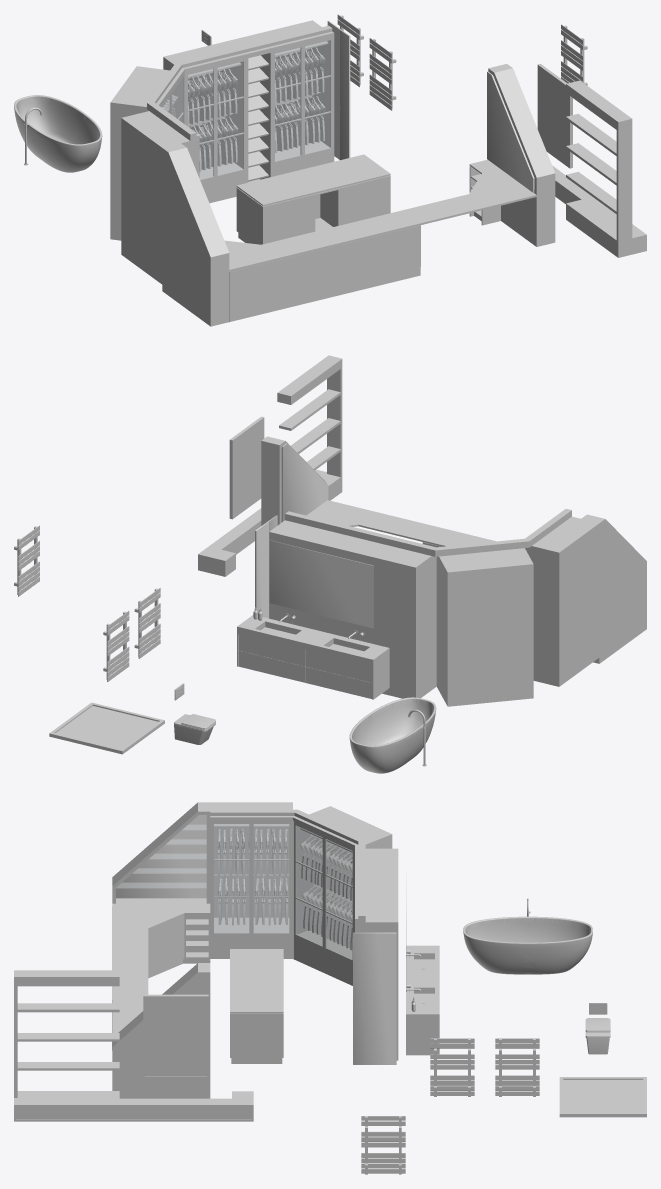
File: Storey__FirstFloor__ProposedFixtures__MeshModel__.glb
The picture shows the model from 3 angles, top to bottom: view 1: azimuth 30°, elevation 25°; view 2: azimuth 150°, elevation 25°; view 3: azimuth 270°, elevation 25°; orthographic projection. The views are drawn at different scales.
Visible parts, largest first — view 1: 27__ProposedBuilding__Fixtures::Default, 85_0001__Wardrobe-01_1_ID730522, 85_0001__Wardrobe-01_1_ID730524, 27__ProposedBuilding__Fixtures::Color_000, 27__ProposedBuilding__Fixtures::MAT140__Mirror__ClearDefault, 27_50__TowelRadiator__WallHuing__Type-01___ID730512, 27_50__TowelRadiator__WallHuing__Type-01___ID730555, 27_50__TowelRadiator__WallHuing__Type-01___ID730511, 27__ProposedBuilding__Fixtures::MAT101__Glass__ClearDefault; view 2: 27__ProposedBuilding__Fixtures::Default, 27__ProposedBuilding__Fixtures::MAT140__Mirror__ClearDefault, 85_0001__Wardrobe-01_1_ID730524, 27__ProposedBuilding__Fixtures::Color_000, 85_0001__Wardrobe-01_1_ID730522, 27_50__TowelRadiator__WallHuing__Type-01___ID730511, 27_50__TowelRadiator__WallHuing__Type-01___ID730555, 27_50__TowelRadiator__WallHuing__Type-01___ID730512; view 3: 27__ProposedBuilding__Fixtures::Default, 27__ProposedBuilding__Fixtures::MAT101__Glass__ClearDefault, 27__ProposedBuilding__Fixtures::MAT140__Mirror__ClearDefault, 27__ProposedBuilding__Fixtures::Color_000, 27_50__TowelRadiator__WallHuing__Type-01___ID730555, 27_50__TowelRadiator__WallHuing__Type-01___ID730512, 27_50__TowelRadiator__WallHuing__Type-01___ID730511, 85_0001__Wardrobe-01_1_ID730522, 85_0001__Wardrobe-01_1_ID730524.
Boxes of the visible parts, bbox=[...] form: 27__ProposedBuilding__Fixtures::Default: bbox=[110, 25, 646, 326]; 85_0001__Wardrobe-01_1_ID730522: bbox=[250, 20, 334, 176]; 85_0001__Wardrobe-01_1_ID730524: bbox=[163, 41, 246, 203]; 27__ProposedBuilding__Fixtures::Color_000: bbox=[14, 95, 102, 172]; 27__ProposedBuilding__Fixtures::MAT140__Mirror__ClearDefault: bbox=[327, 20, 532, 192]; 27_50__TowelRadiator__WallHuing__Type-01___ID730512: bbox=[369, 38, 396, 110]; 27_50__TowelRadiator__WallHuing__Type-01___ID730555: bbox=[561, 25, 587, 85]; 27_50__TowelRadiator__WallHuing__Type-01___ID730511: bbox=[337, 14, 363, 87]; 27__ProposedBuilding__Fixtures::MAT101__Glass__ClearDefault: bbox=[162, 78, 183, 122]; 27__ProposedBuilding__Fixtures::Default: bbox=[49, 355, 646, 754]; 27__ProposedBuilding__Fixtures::MAT140__Mirror__ClearDefault: bbox=[255, 444, 373, 628]; 85_0001__Wardrobe-01_1_ID730524: bbox=[354, 541, 436, 698]; 27__ProposedBuilding__Fixtures::Color_000: bbox=[349, 697, 436, 773]; 85_0001__Wardrobe-01_1_ID730522: bbox=[269, 520, 345, 633]; 27_50__TowelRadiator__WallHuing__Type-01___ID730511: bbox=[103, 610, 129, 681]; 27_50__TowelRadiator__WallHuing__Type-01___ID730555: bbox=[14, 525, 39, 596]; 27_50__TowelRadiator__WallHuing__Type-01___ID730512: bbox=[134, 587, 160, 658]; 27__ProposedBuilding__Fixtures::Default: bbox=[14, 802, 646, 1121]; 27__ProposedBuilding__Fixtures::MAT101__Glass__ClearDefault: bbox=[116, 824, 352, 959]; 27__ProposedBuilding__Fixtures::MAT140__Mirror__ClearDefault: bbox=[116, 815, 406, 1064]; 27__ProposedBuilding__Fixtures::Color_000: bbox=[463, 916, 592, 974]; 27_50__TowelRadiator__WallHuing__Type-01___ID730555: bbox=[361, 1116, 405, 1174]; 27_50__TowelRadiator__WallHuing__Type-01___ID730512: bbox=[430, 1038, 474, 1096]; 27_50__TowelRadiator__WallHuing__Type-01___ID730511: bbox=[495, 1038, 539, 1096]; 85_0001__Wardrobe-01_1_ID730522: bbox=[355, 891, 398, 1060]; 85_0001__Wardrobe-01_1_ID730524: bbox=[365, 848, 398, 879].
Size of the model in its own units: 8.06 by 2.34 by 8.71.
Materials: 3 (1 with a texture image).
